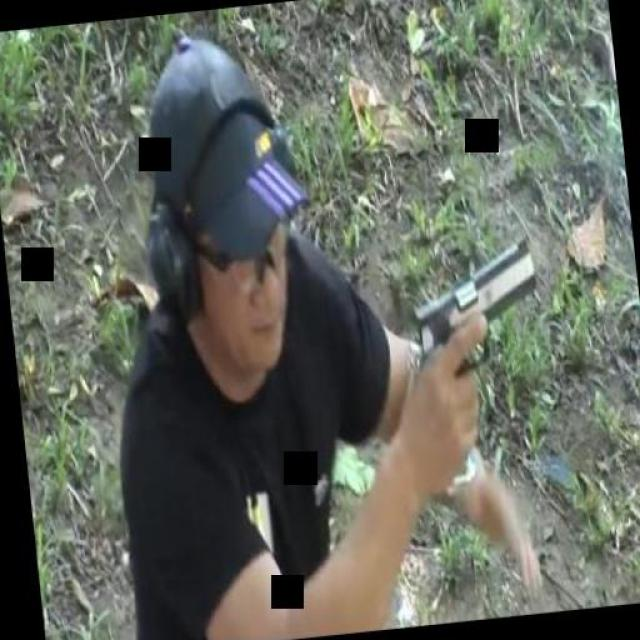gun: (401, 230, 561, 476)
